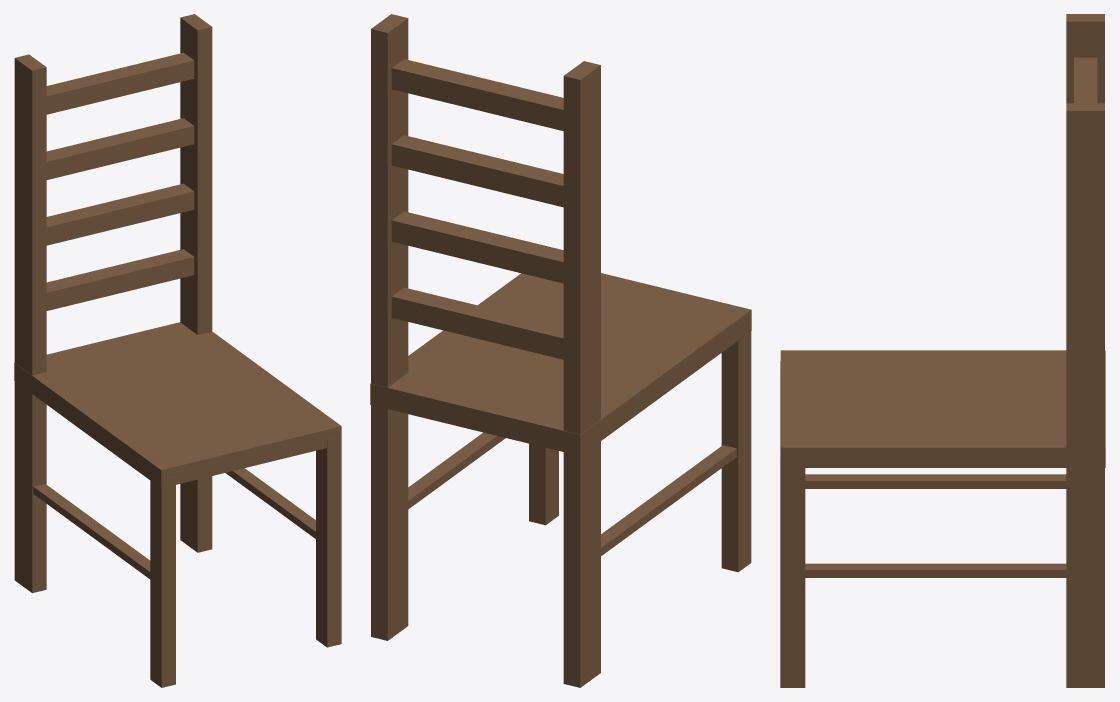
3 renders of one model, left to right at view 1: azimuth 30°, elevation 25°; view 2: azimuth 150°, elevation 25°; view 3: azimuth 270°, elevation 25°, orthographic. The views are drawn at different scales.
Visible parts, largest first — view 1: chair; view 2: chair; view 3: chair.
Boxes of the visible parts, <box> form: chair: <box>14,14,341,687</box>; chair: <box>370,14,751,687</box>; chair: <box>780,14,1105,687</box>.
Bounding box in the file's own units: 0.3615 × 1 × 0.5107.
